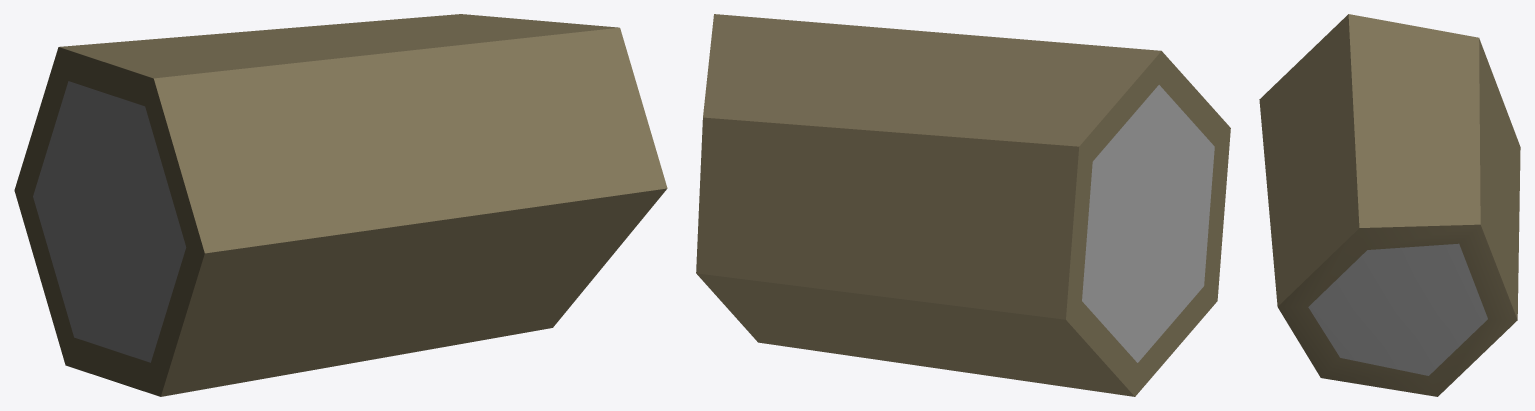
File: chopped tree.fbx
The picture shows the model from 3 angles, left to right: view 1: azimuth 30°, elevation 25°; view 2: azimuth 150°, elevation 25°; view 3: azimuth 270°, elevation 25°; orthographic projection. The views are drawn at different scales.
Visible parts, largest first — view 1: pCylinder1; view 2: pCylinder1; view 3: pCylinder1.
Part boxes in pixels (<box>): pCylinder1: <box>14,14,667,396</box>; pCylinder1: <box>696,14,1230,396</box>; pCylinder1: <box>1259,14,1520,396</box>.
Size of the model in its own units: 9.17 by 6.23 by 5.8.
